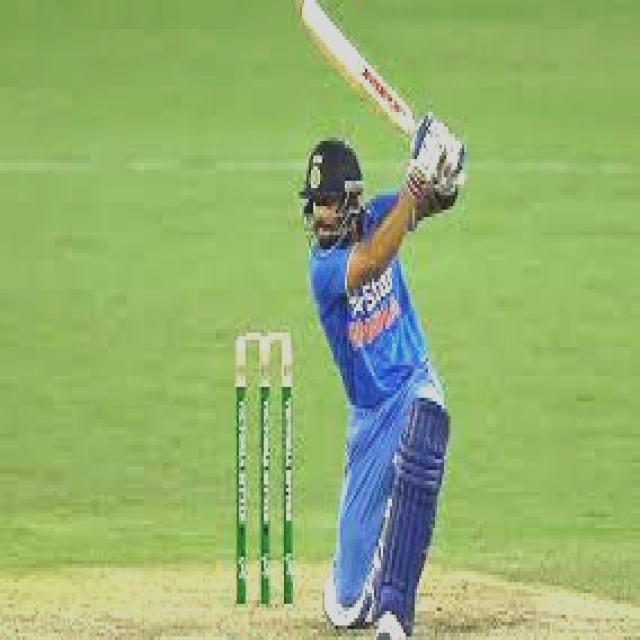toe: (296, 0, 336, 47)
